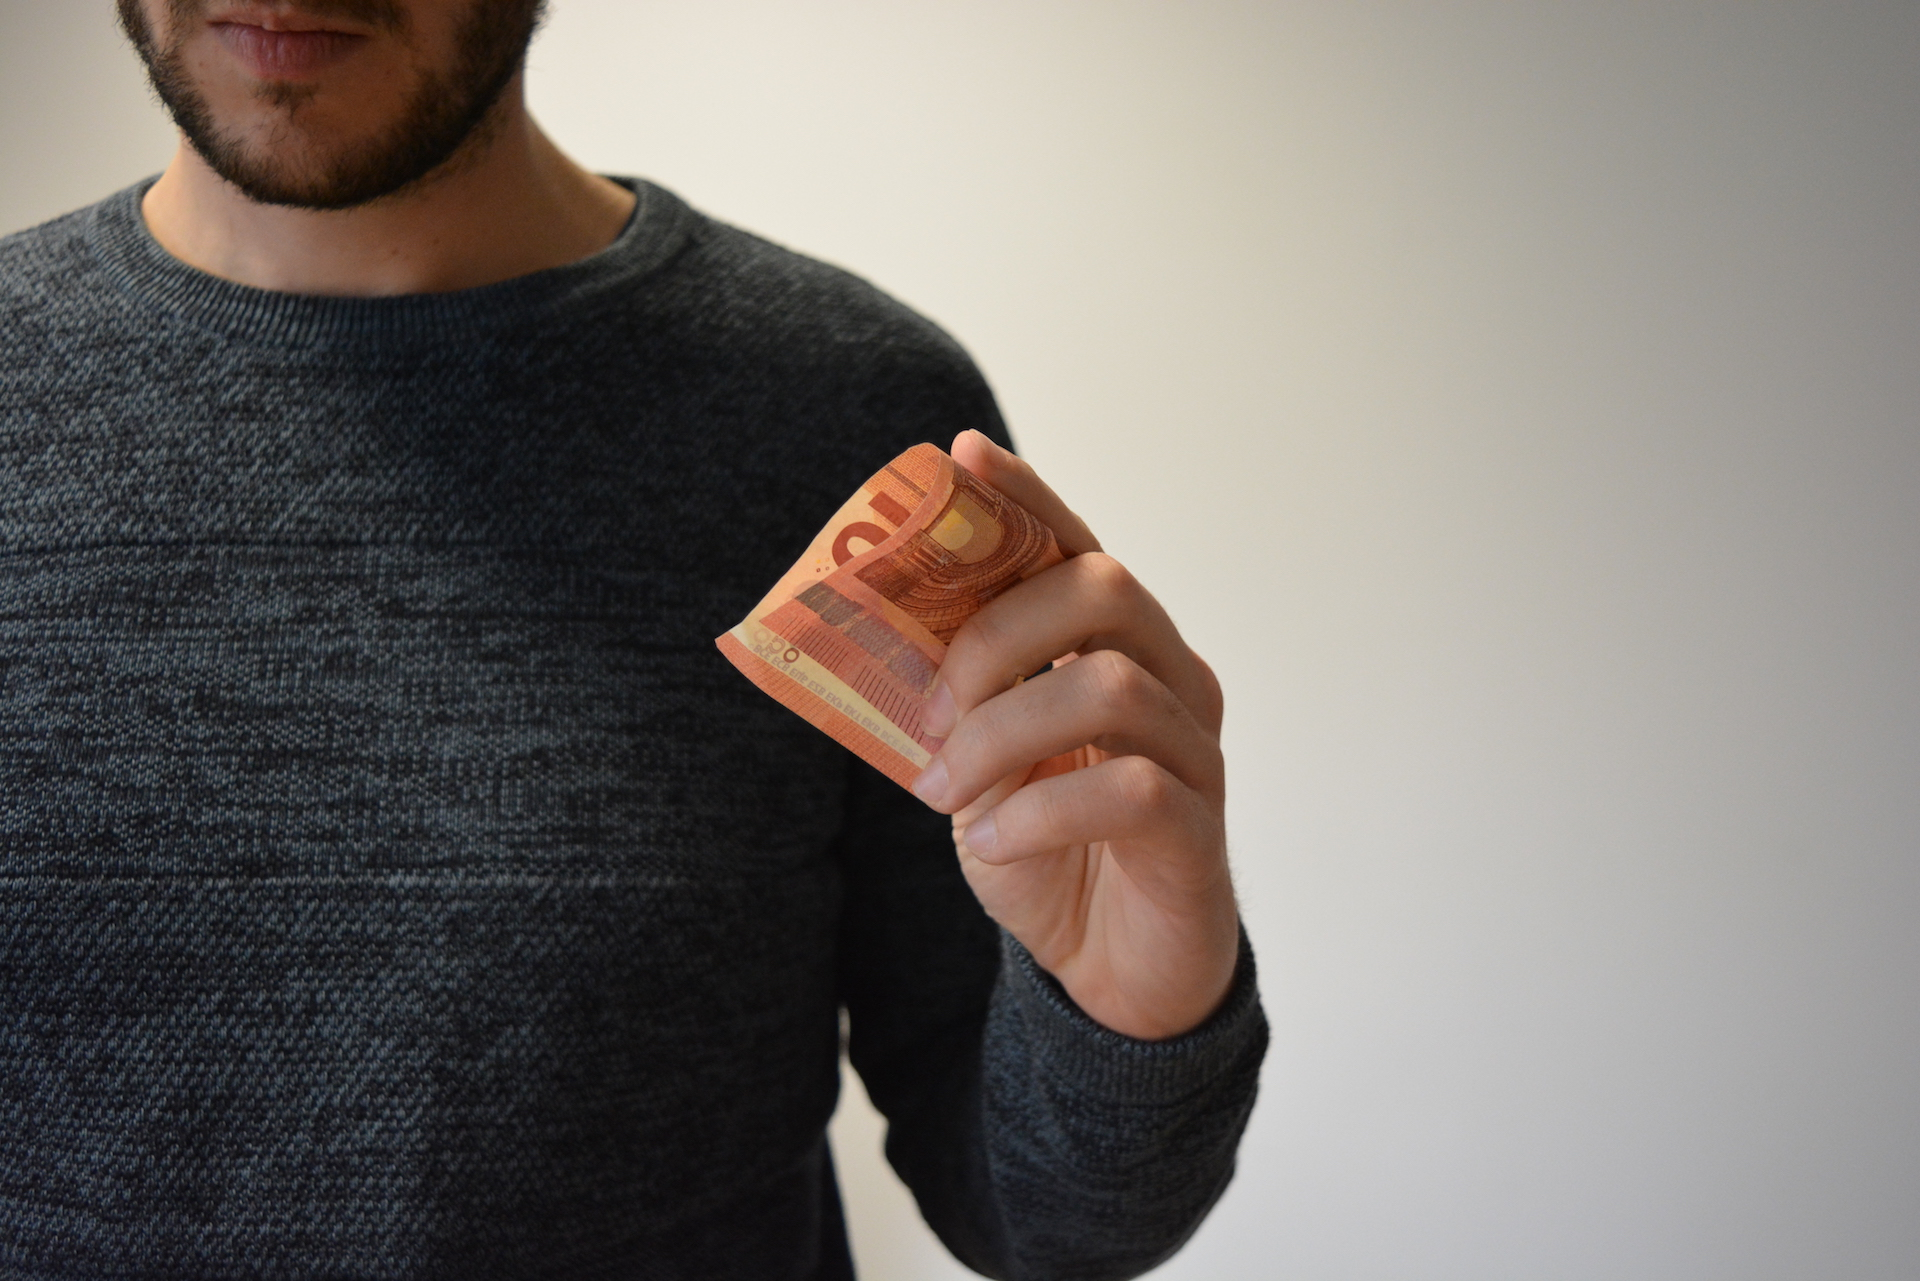billete: (711, 437, 1085, 802)
